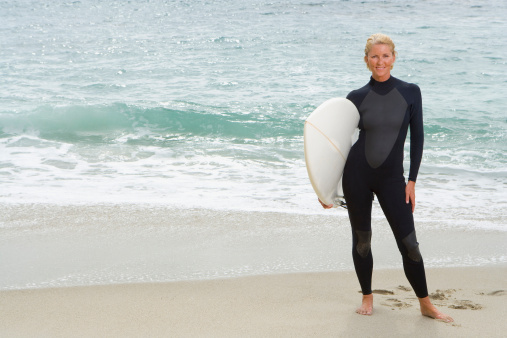em pe: (325, 26, 430, 311)
